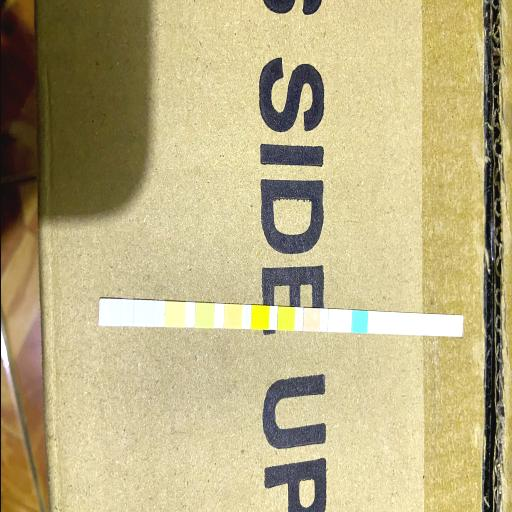Bilirubin: (328, 310, 342, 330)
Blood: (251, 306, 268, 328)
Glucose: (352, 311, 366, 333)
Ketone: (302, 310, 318, 330)
Leukocytes: (100, 300, 120, 326)
Nitrite: (133, 300, 152, 326)
Protein: (195, 304, 213, 328)
SpGravity: (278, 308, 294, 330)
Urobilinogen: (165, 302, 184, 326)
pH: (224, 306, 240, 328)
strip: (97, 298, 462, 337)
